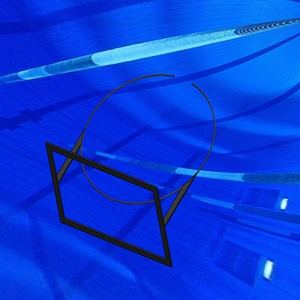circle: (45, 72, 217, 268)
